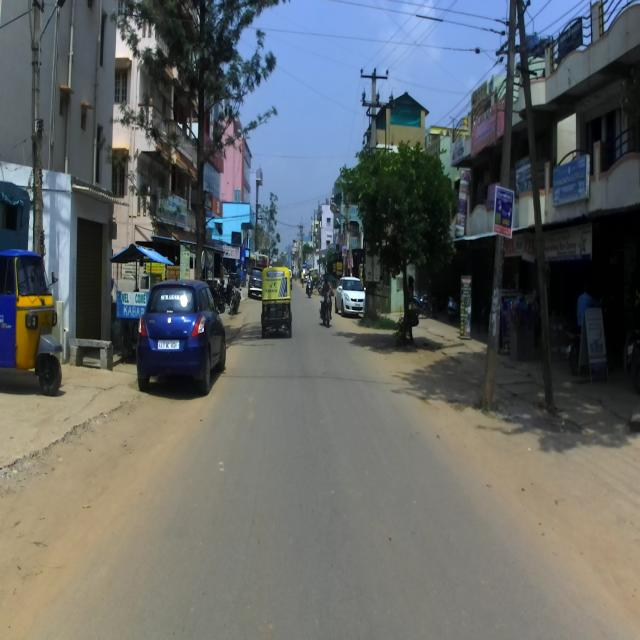auto ahead at: (0, 249, 62, 401), (260, 264, 295, 349)
car ahead at: (140, 277, 232, 399)
electric pole ahead at: (483, 0, 560, 424)
tree ahead at: (362, 139, 456, 344)
